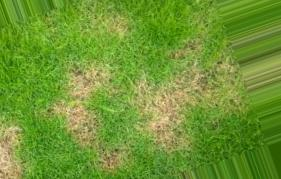patch: (63, 99, 104, 145), (154, 98, 192, 135), (83, 80, 101, 96)
